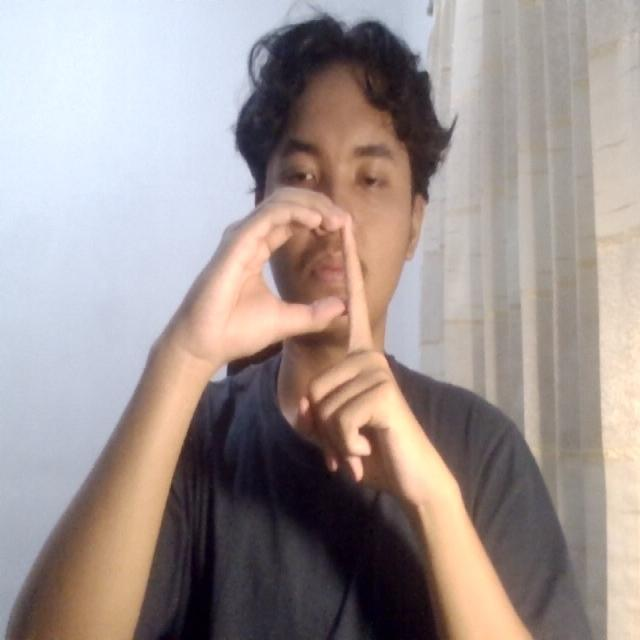D: (187, 176, 439, 516)
